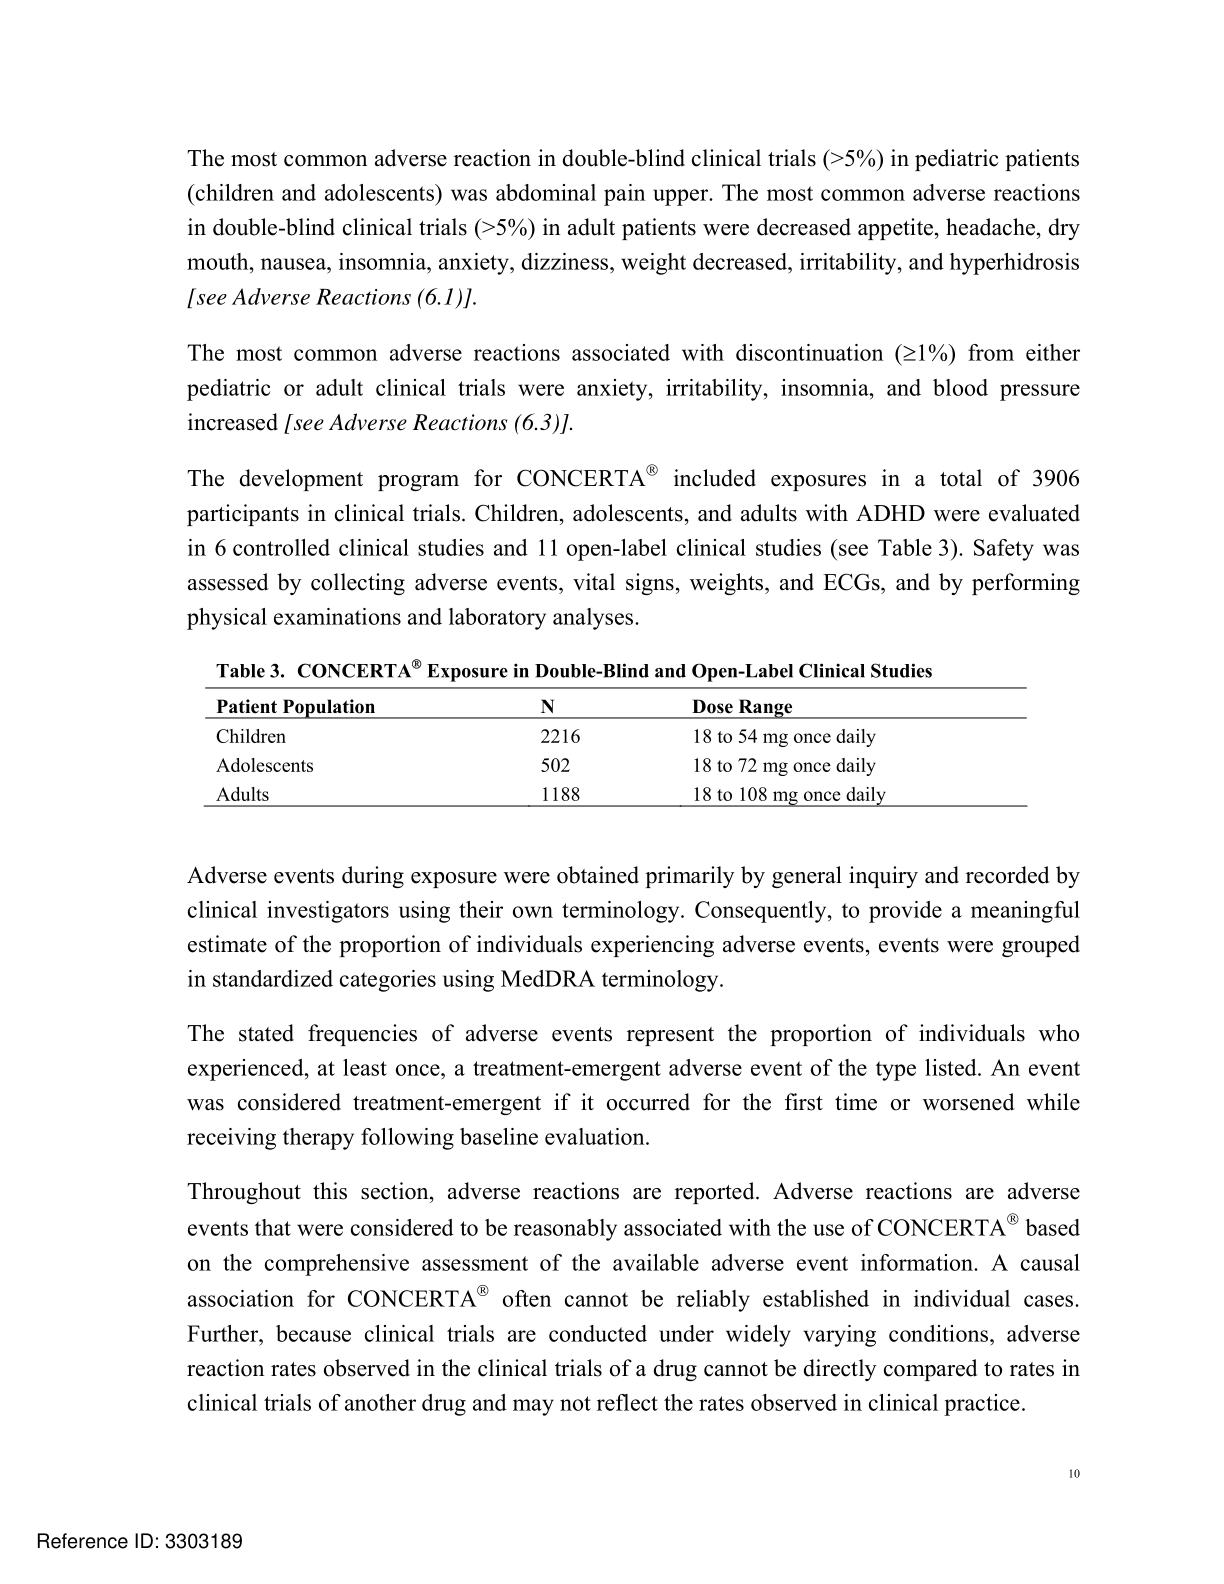partial_lined: (203, 684, 1031, 810)
